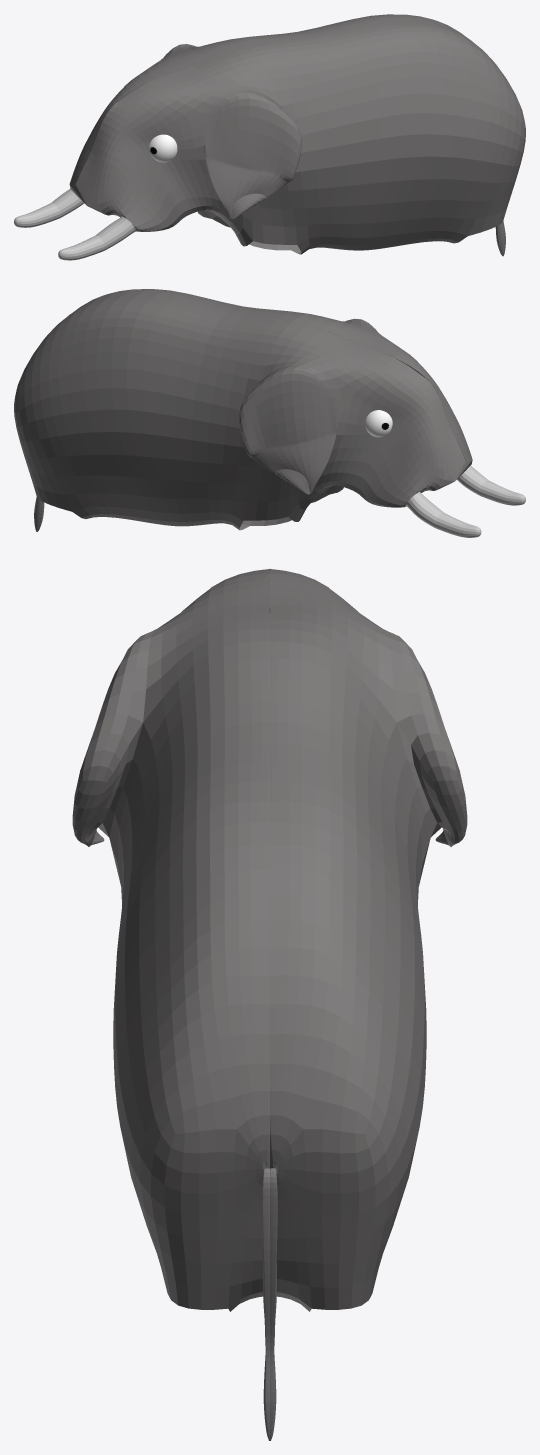
File: ElefanteDos.obj
3 views of the same model, one above another, from view 1: azimuth 30°, elevation 25°; view 2: azimuth 150°, elevation 25°; view 3: azimuth 270°, elevation 25° (orthographic). The views are drawn at different scales.
Parts seen in each view (by area): view 1: Elefante:pasted__polySurface9; view 2: Elefante:pasted__polySurface9; view 3: Elefante:pasted__polySurface9.
Boxes of the visible parts, x1=… form: Elefante:pasted__polySurface9: x1=14, y1=14, x2=525, y2=260; Elefante:pasted__polySurface9: x1=14, y1=289, x2=525, y2=537; Elefante:pasted__polySurface9: x1=72, y1=569, x2=467, y2=1440.
Size of the model in its own units: 4.34 by 2.4 by 1.57.
Materials: 5 (5 with a texture image).
